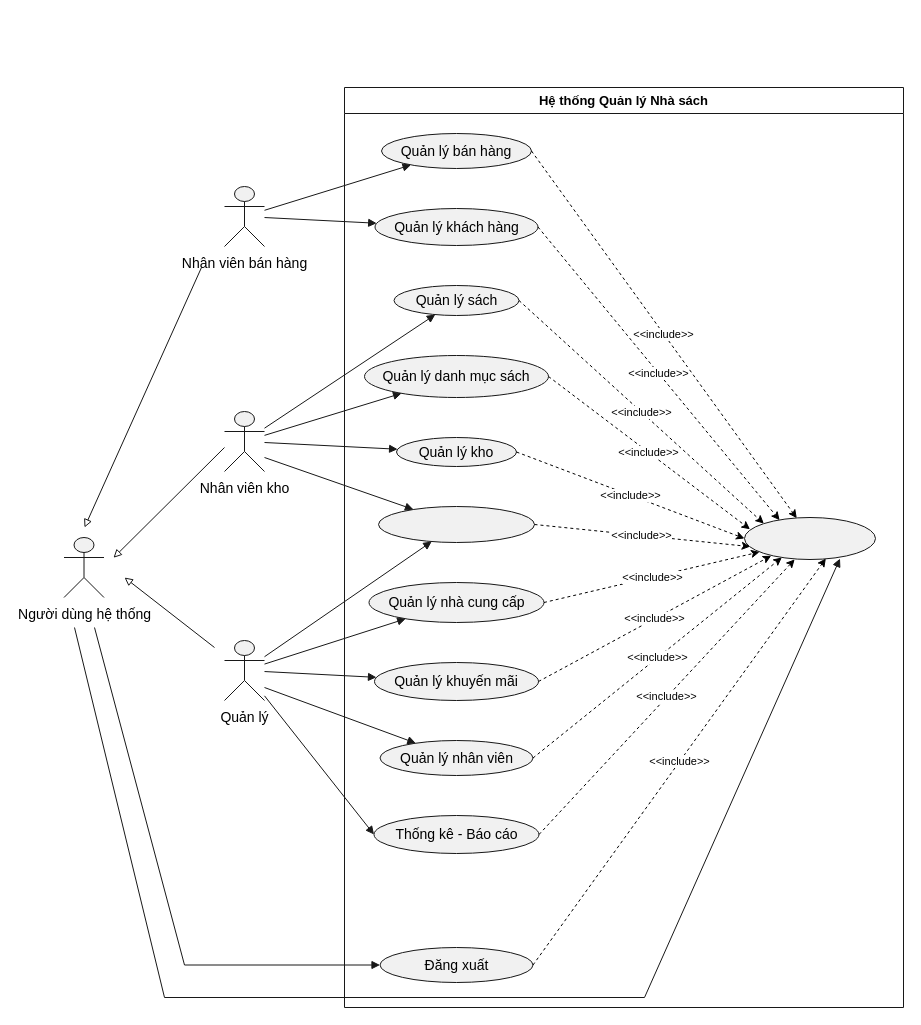
Some shapes in this 921 by 1025 pixel diagram are drawn without their labels. Each missing label, with the centre of its shape:
"Quản lý nhập hàng" goes at point (456, 524).
"Đăng nhập" goes at point (810, 538).
